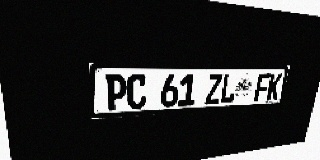1: (178, 74, 197, 106)
6: (160, 74, 180, 107)
C: (127, 74, 147, 110)
F: (254, 74, 271, 101)
K: (266, 73, 282, 101)
L: (220, 74, 237, 104)
P: (105, 74, 127, 111)
Z: (205, 74, 223, 105)
